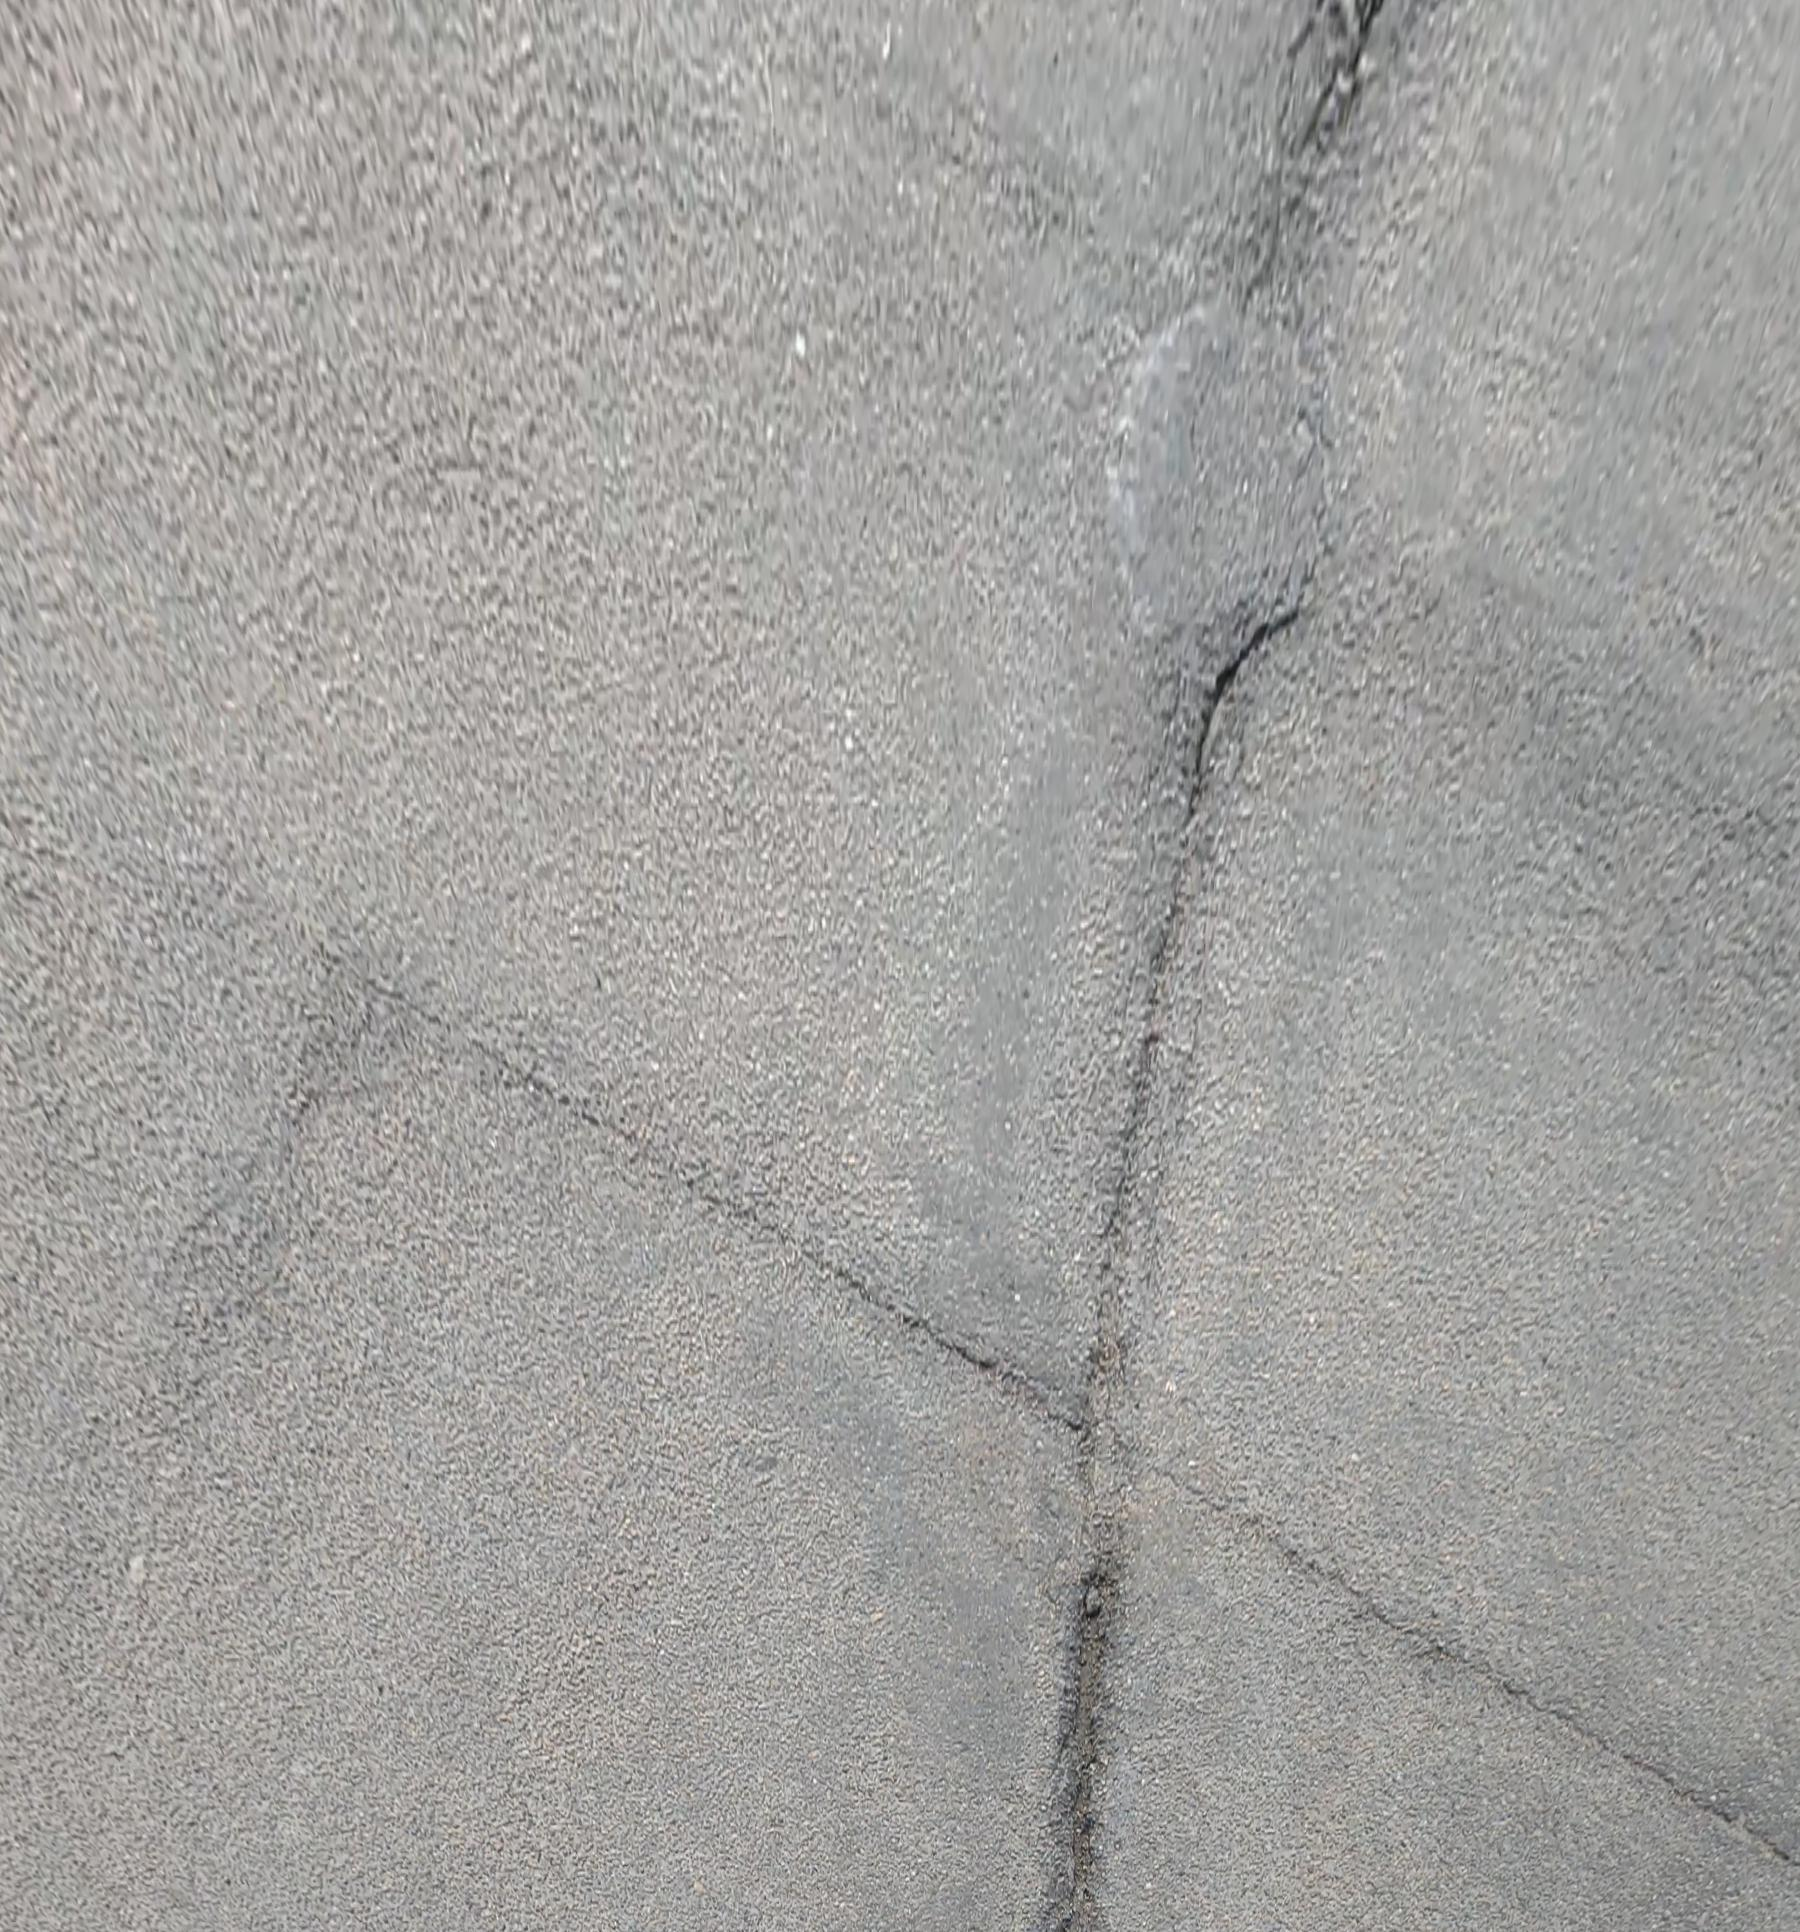pothole_patch_good: (1106, 293, 1323, 711)
